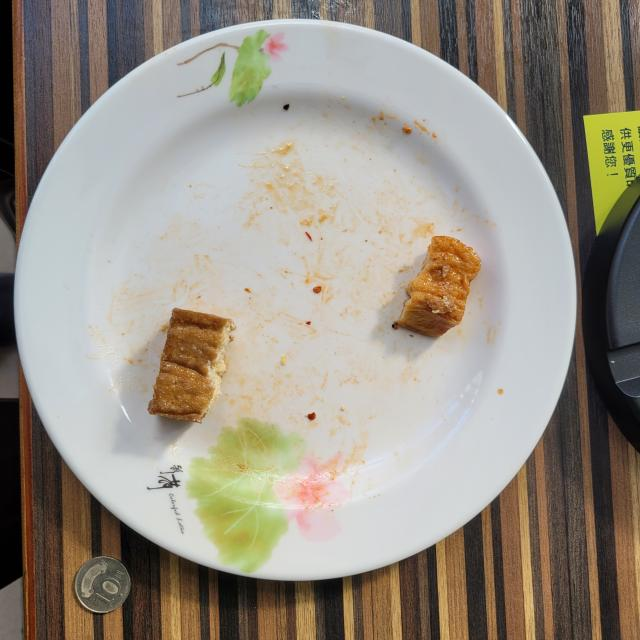coin: (75, 556, 130, 614)
creamy tofu: (392, 236, 481, 336)
egg tofu: (149, 308, 235, 422)
